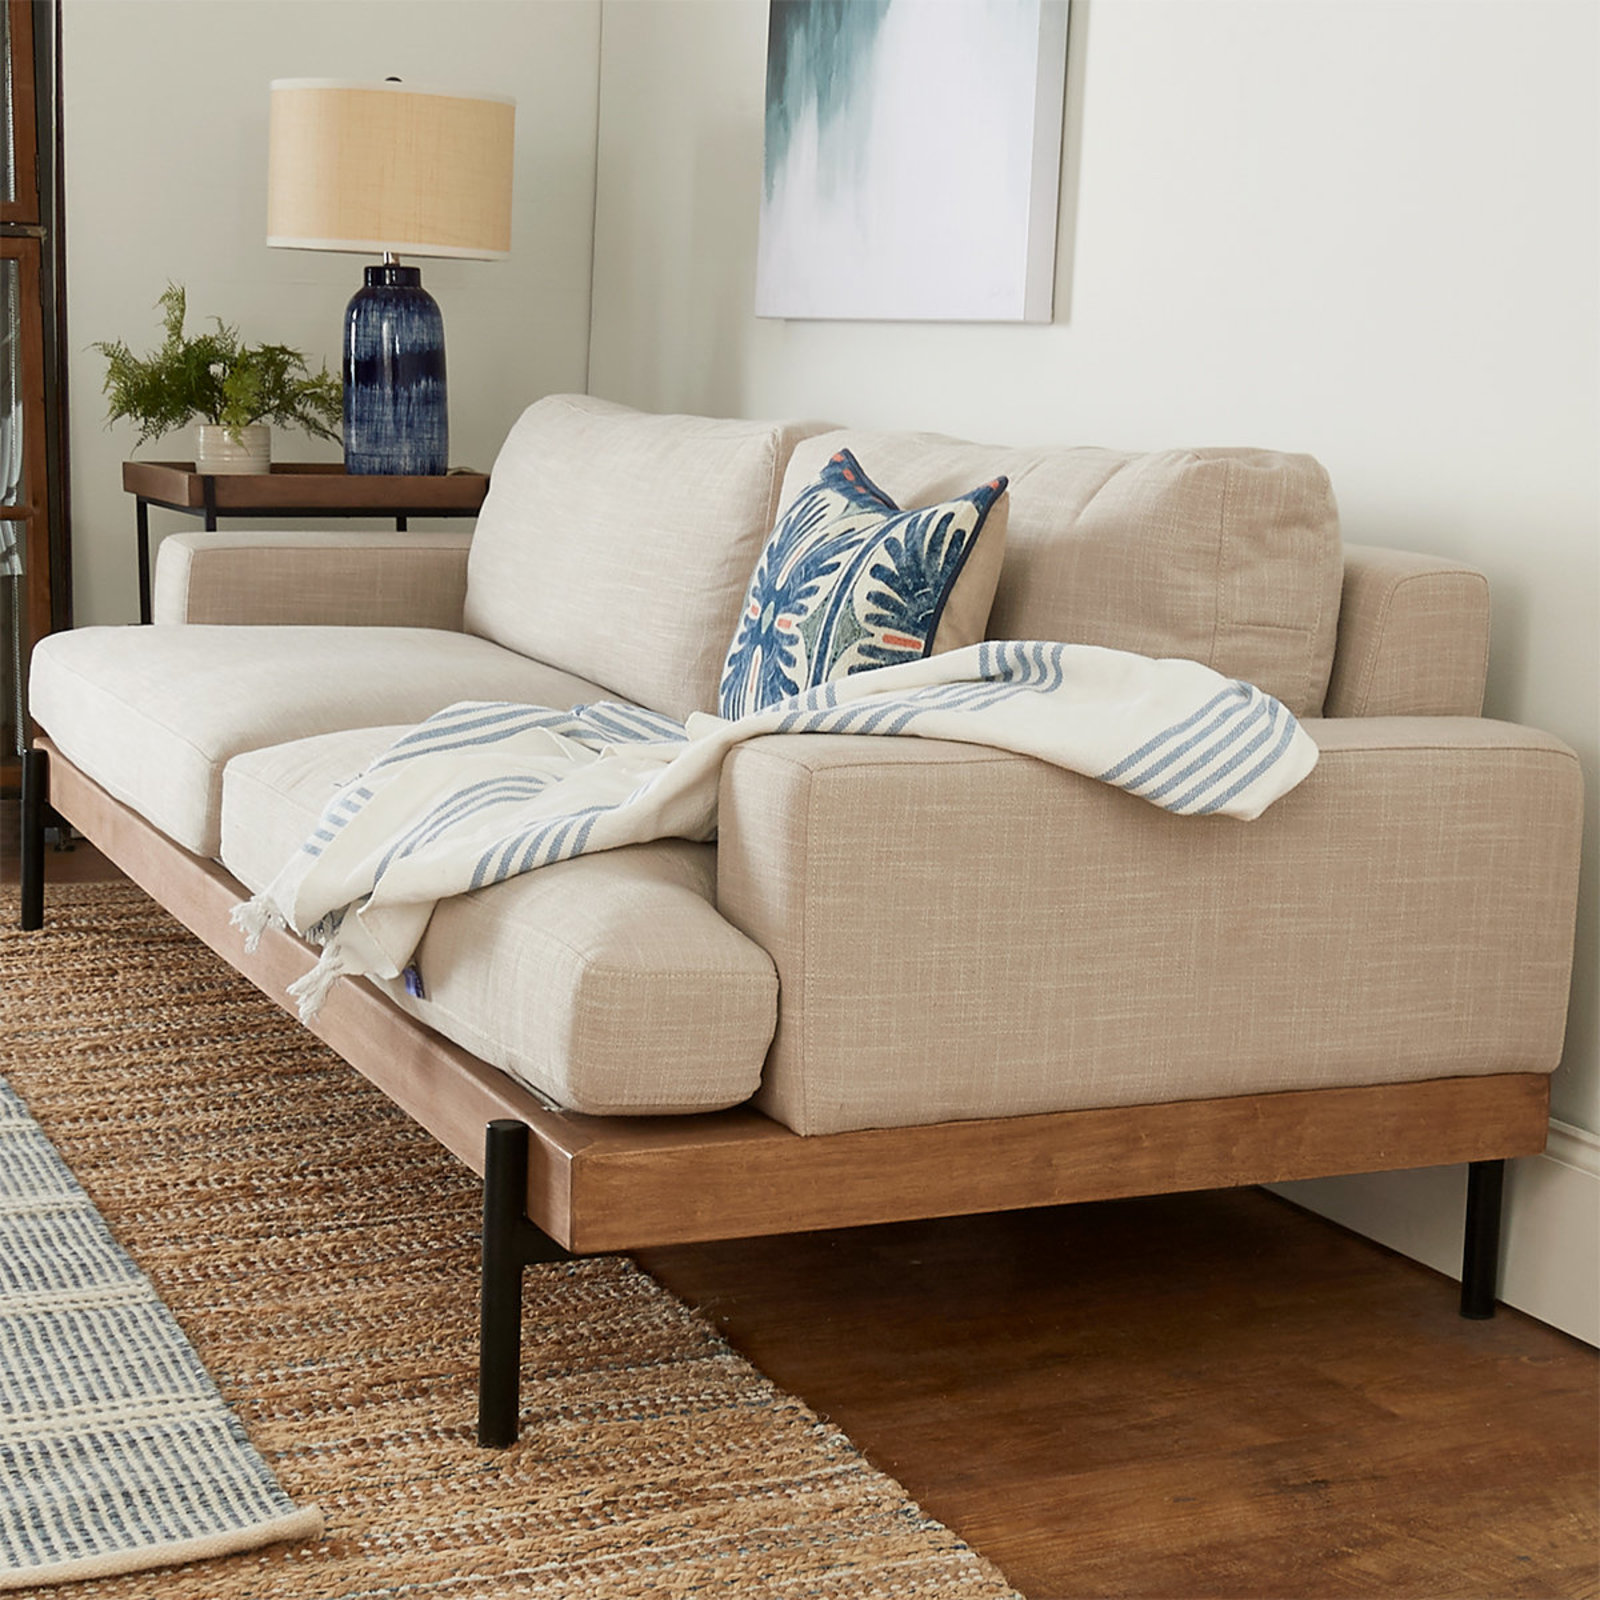bantal: (722, 472, 983, 700)
lampu: (264, 67, 514, 469)
sova: (26, 388, 1596, 1219)
tanaman: (122, 327, 341, 476)
